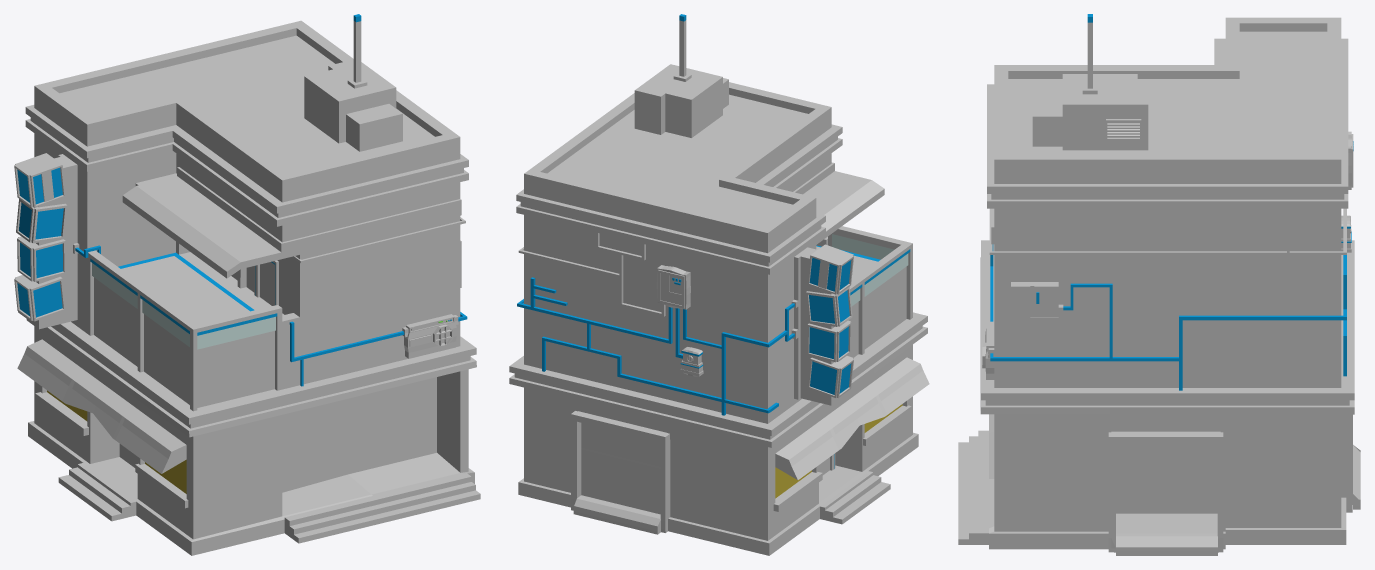
File: Building_Apartment08.fbx
3 renders of one model, left to right at view 1: azimuth 30°, elevation 25°; view 2: azimuth 150°, elevation 25°; view 3: azimuth 270°, elevation 25°, orthographic. The views are drawn at different scales.
Visible parts, largest first — view 1: Apartment 08; view 2: Apartment 08; view 3: Apartment 08.
Part boxes in pixels (x1,y1,x2,y2): Apartment 08: (14,14,480,555); Apartment 08: (509,14,929,555); Apartment 08: (958,14,1360,555).
Size of the model in its own units: 1139 by 1450 by 1065.
